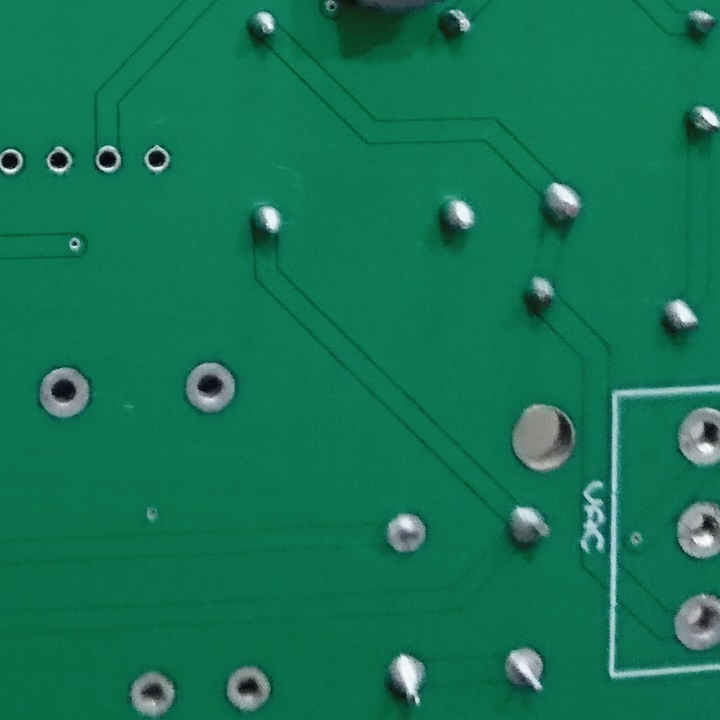F: (36, 361, 95, 421), (183, 357, 239, 420), (670, 589, 720, 659), (671, 402, 720, 472), (673, 498, 720, 566), (220, 662, 276, 714), (499, 643, 550, 697), (384, 508, 433, 564), (126, 669, 179, 718), (141, 140, 176, 175), (93, 145, 126, 177), (44, 143, 74, 177), (1, 145, 29, 180)
